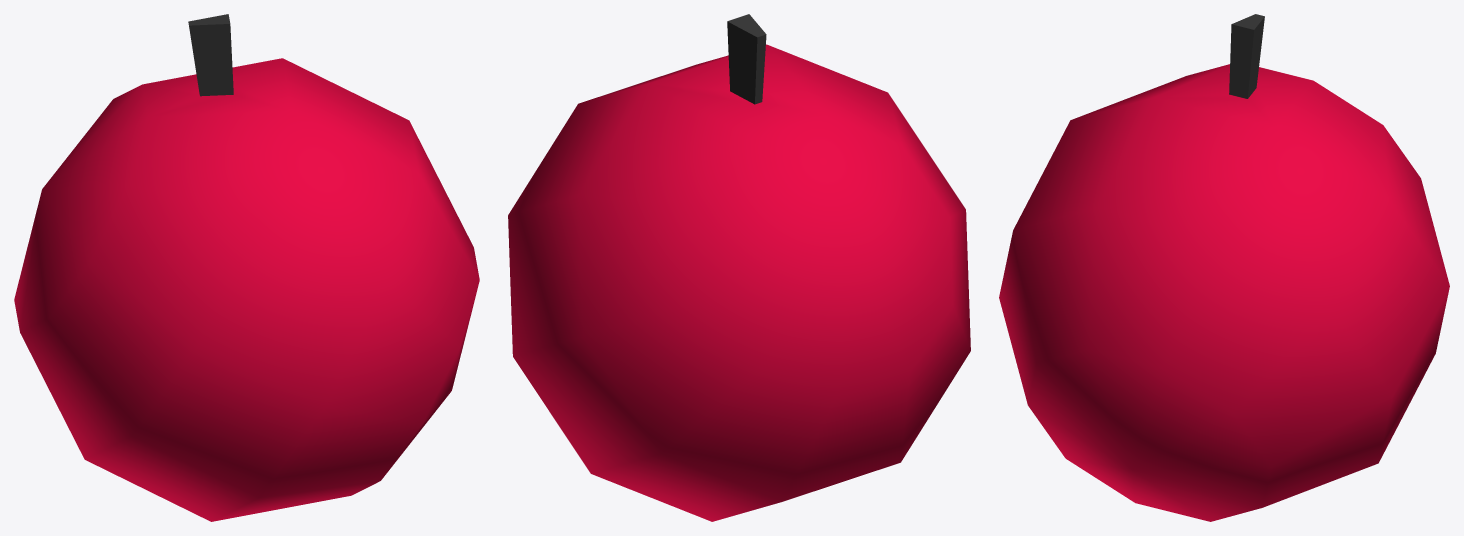
The model's file is propsMaison_pomme.fbx.
The picture shows the model from 3 angles, left to right: view 1: azimuth 30°, elevation 25°; view 2: azimuth 150°, elevation 25°; view 3: azimuth 270°, elevation 25°; orthographic projection. The views are drawn at different scales.
Visible parts, largest first — view 1: pomme; view 2: pomme; view 3: pomme.
Boxes of the visible parts, <box> form: pomme: <box>14,14,479,521</box>; pomme: <box>508,14,970,521</box>; pomme: <box>999,14,1449,521</box>.
Bounding box in the file's own units: 29.71 × 32.96 × 29.27.
